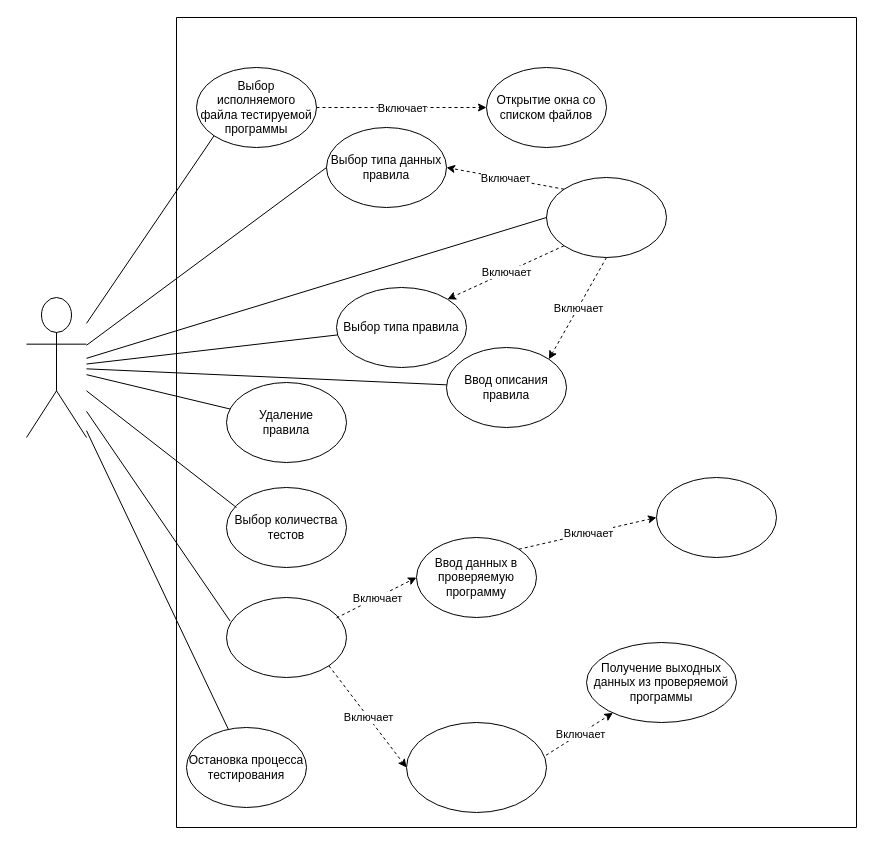
This 874x845 diagram has some shape labels left out. Each missing label, with the centre of its shape:
Генерация входных данных: the point at 716,517
Запуск процесса тестирования: the point at 286,637
Пользователь: the point at 56,367
Проверка выходных данных проверяемой программы: the point at 476,767
Создание правила: the point at 606,217
